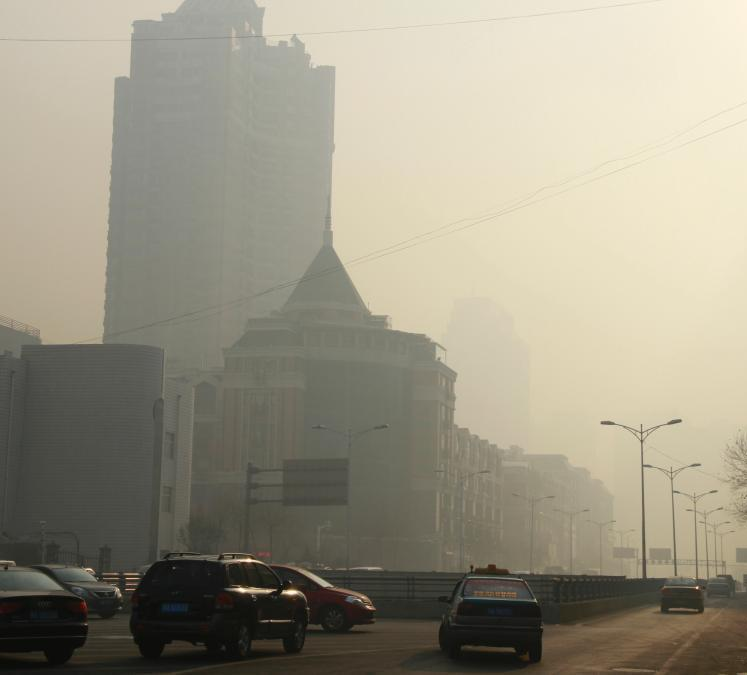car: (130, 550, 309, 657), (215, 560, 379, 635), (436, 562, 545, 661), (1, 553, 90, 663), (28, 562, 124, 621), (656, 572, 705, 614), (704, 575, 731, 597)
